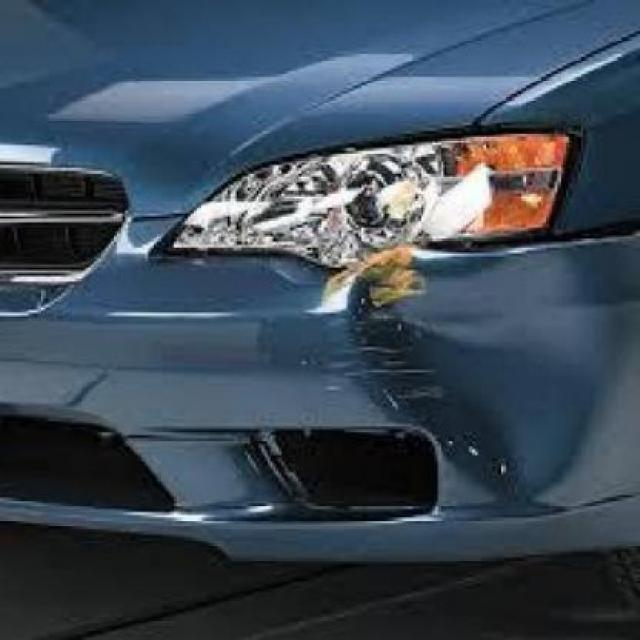damage: (307, 232, 634, 507)
